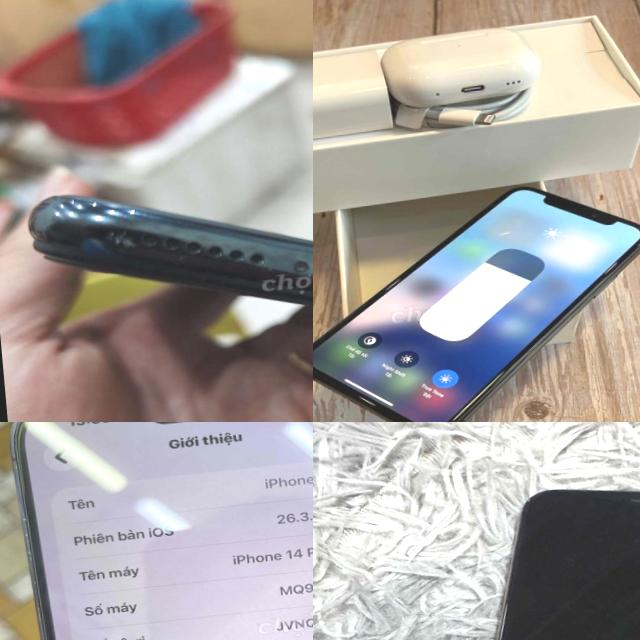gen_11: (20, 131, 313, 396)
gen_14: (0, 422, 313, 640)
gen_x_xs: (313, 171, 640, 422), (497, 490, 640, 640)
